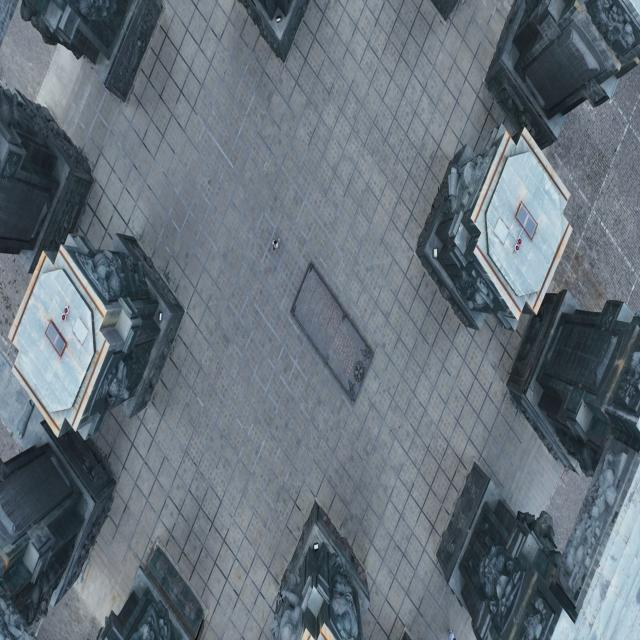vehicle: (272, 237, 280, 250), (448, 628, 456, 640)
